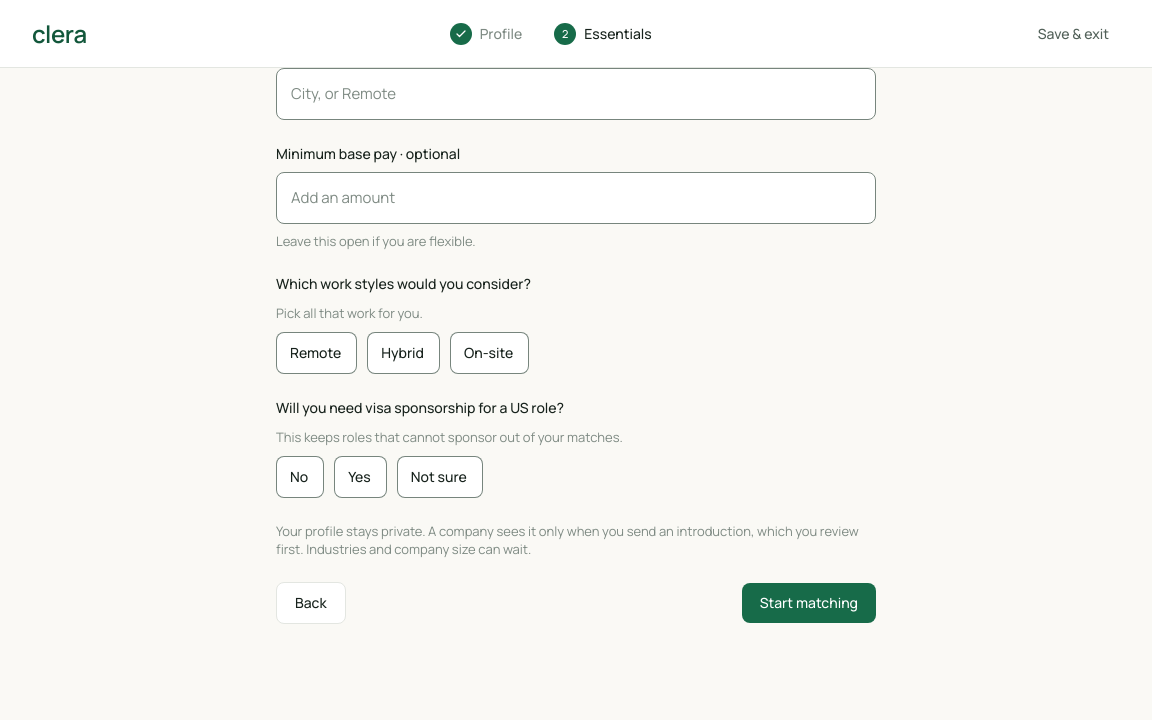
A2 · Confirm essentials › blocks submit and explains what is missing
(page scrolled)
What coordinates should you click on to do the following:
click the button "Start matching"
I would click on:
 (809, 603)
Its box is [742,583,876,623].
(page scrolled)
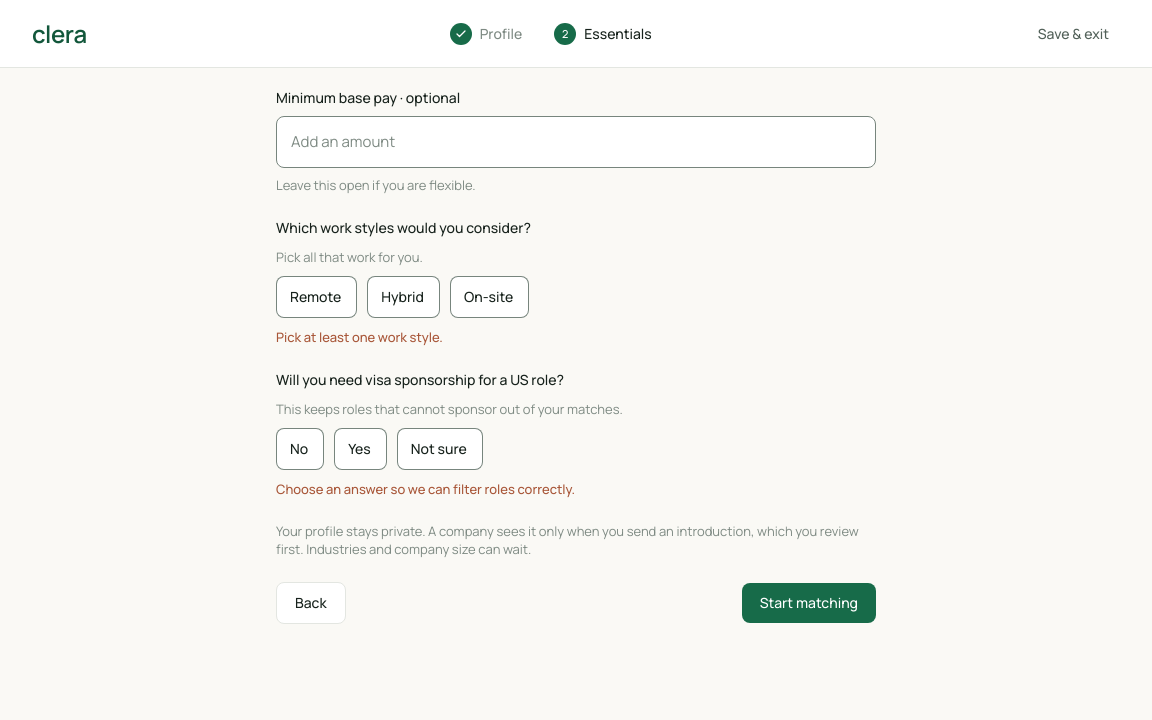
Expected: the text "Pick at least one work style." is shown, [276,328,443,346]
Expected: the text "Choose an answer so we can filter roles correctly." is shown, [276,480,575,498]
